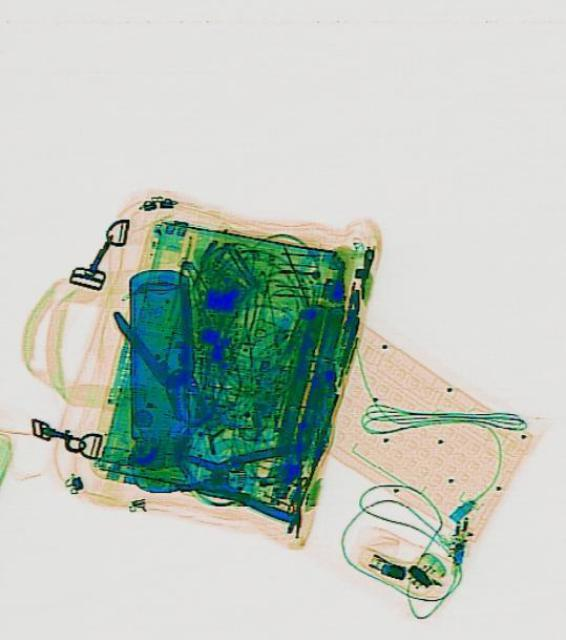Pliers: (105, 275, 234, 433), (168, 431, 312, 521)
